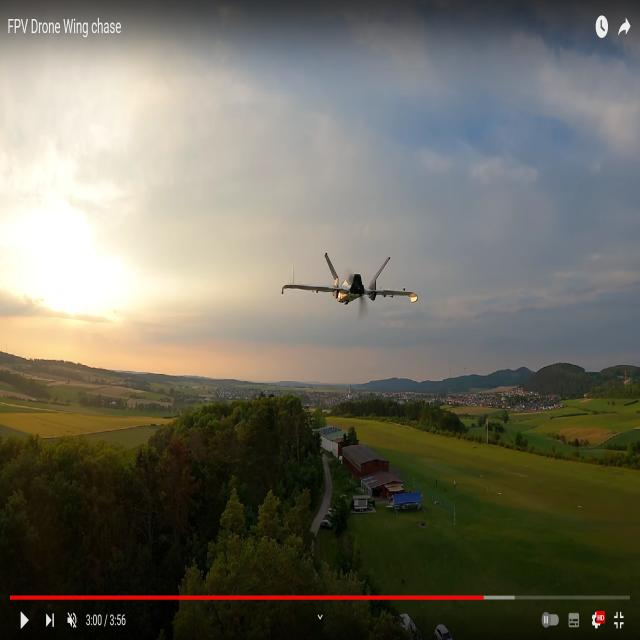iha: (287, 253, 415, 314)
